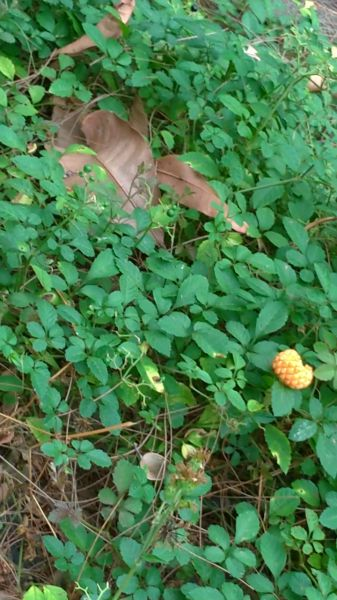eggs: (268, 344, 319, 395)
